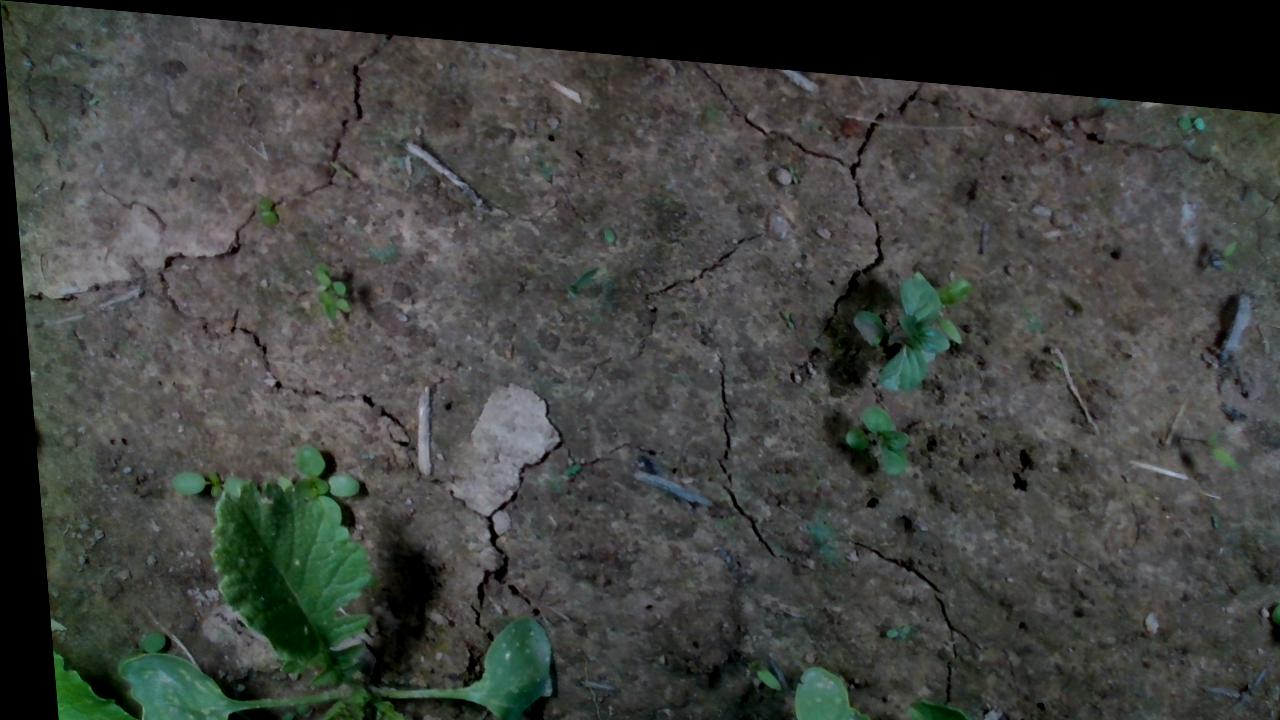weed: (252, 188, 274, 222)
